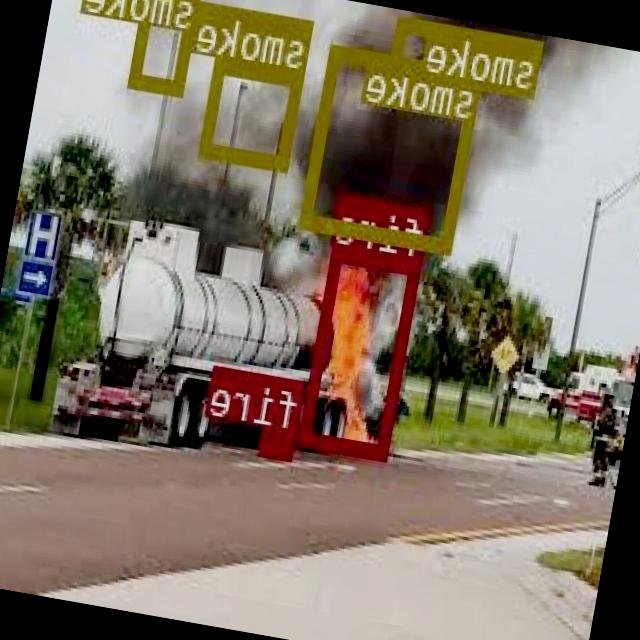fire: (301, 244, 423, 457), (262, 426, 297, 458)
smoke: (302, 43, 484, 252), (392, 13, 546, 94), (202, 55, 306, 168), (131, 0, 205, 93)
